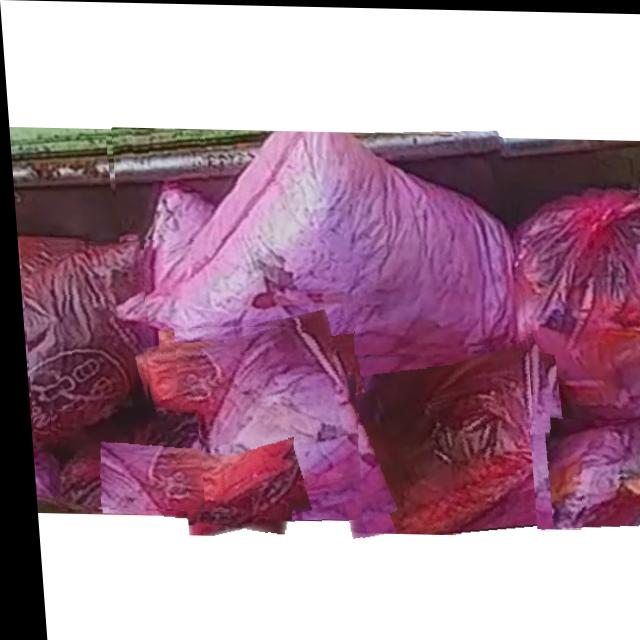other_trashbag: (121, 131, 509, 384), (332, 340, 529, 533), (178, 325, 351, 535), (511, 183, 640, 421), (15, 242, 141, 438), (50, 410, 193, 507), (99, 442, 287, 510), (529, 419, 640, 527)
